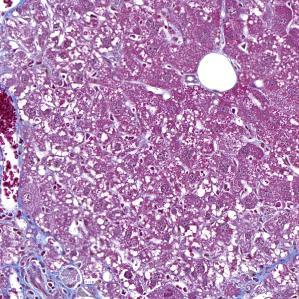fibrosis: (6, 260, 76, 298)
